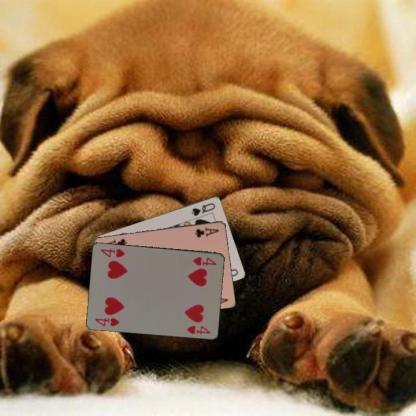4h: (190, 254, 218, 267), (92, 315, 121, 327)
Ac: (193, 224, 220, 238)
Qs: (189, 200, 217, 217)
